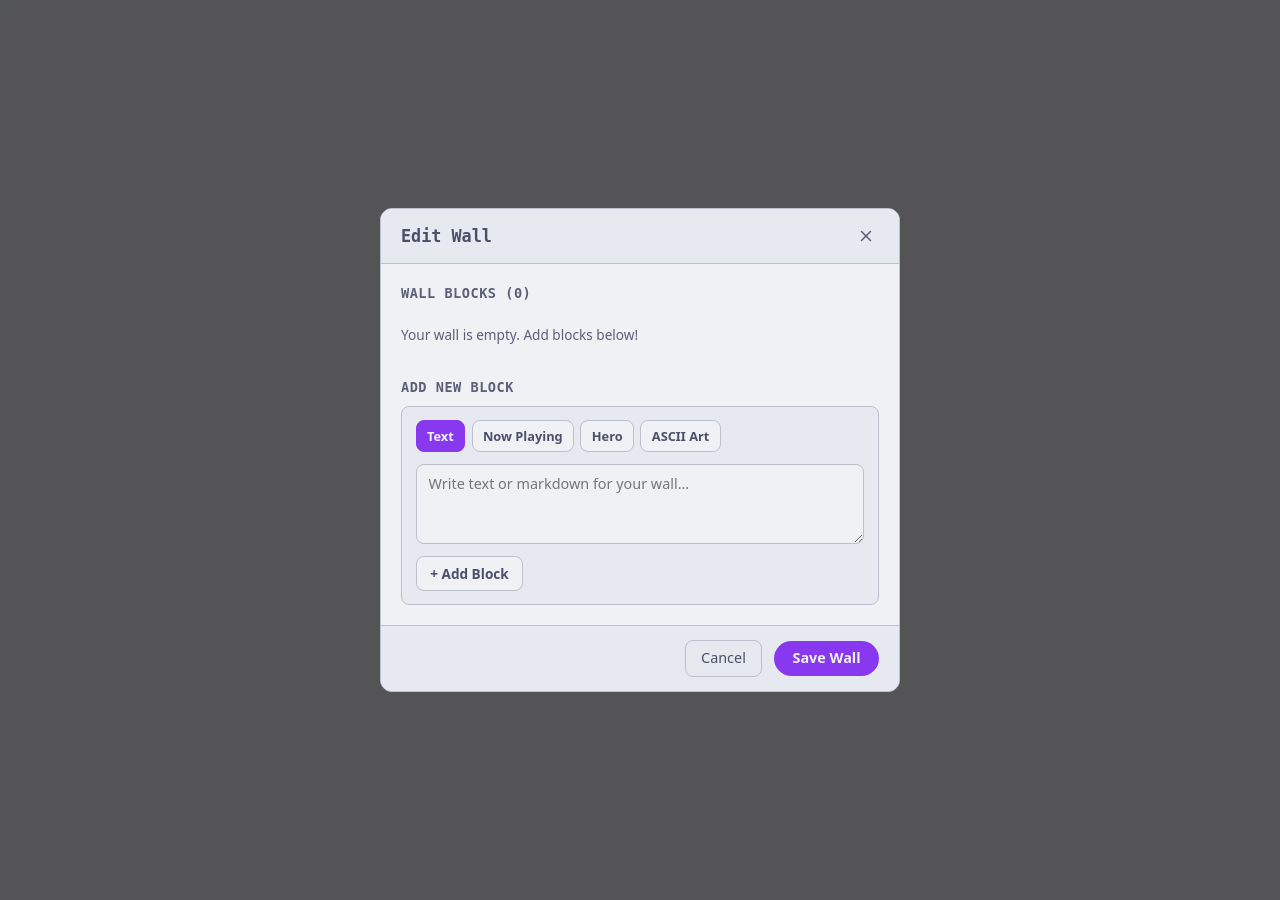
Scenario: EditWallDialog › provides accessible labels and selector pressed states for block creation
expect the text box named "Text or markdown content" is shown: met, box [416, 464, 864, 544]
Click the button "Hero".
click(607, 436)  # box [580, 420, 634, 452]
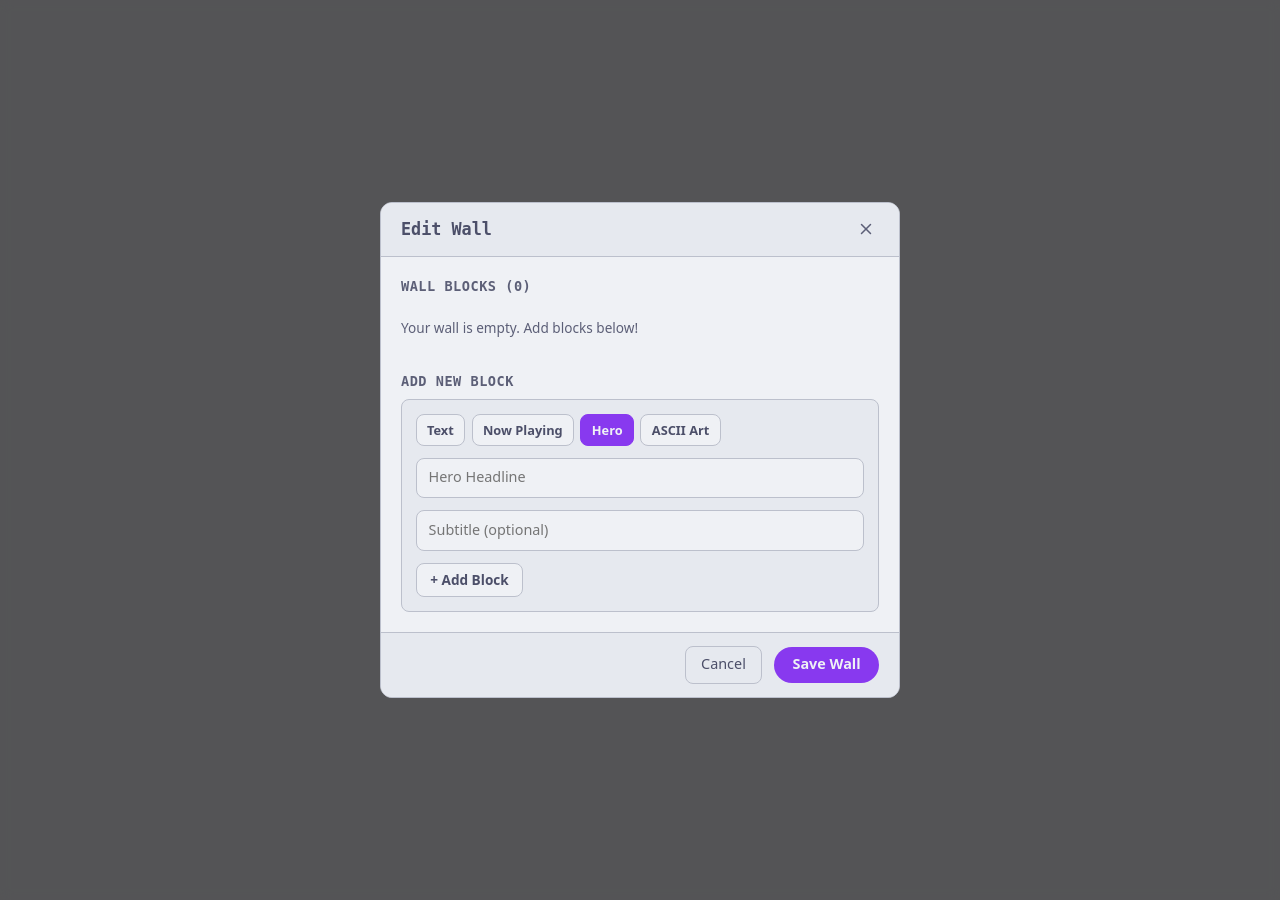
expect the field labelled "Hero Headline" is shown: met, box [416, 458, 864, 498]
expect the field labelled "Subtitle (optional)" is shown: met, box [416, 510, 864, 551]
